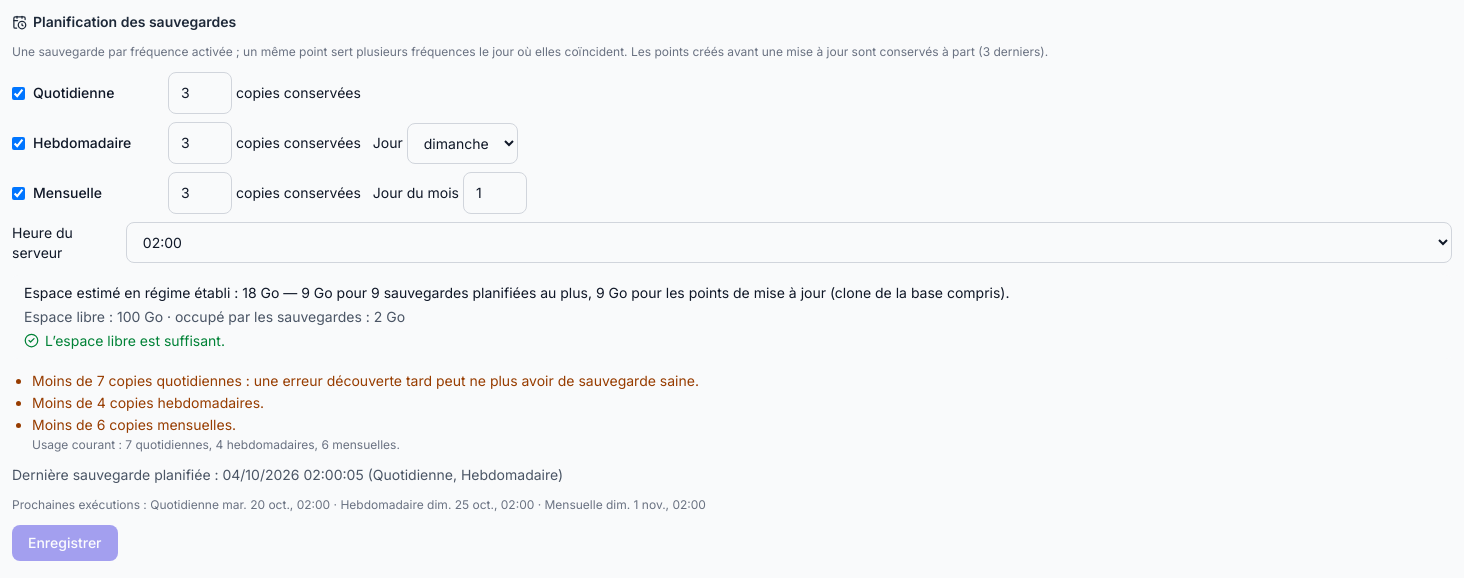
it: BackupSchedulePanel › conseils de bonnes pratiques : conservation inférieure à 7 / 4 / 6, et usage courant rappelé
Check: the list with test id "advice" shows "Moins de 7 copies quotidiennes", box [32, 372, 699, 389]
Check: the list with test id "advice" shows "Moins de 4 copies hebdomadaires", box [32, 394, 264, 411]
Replace the text in the number field named "Quotidienne — copies conservées" with "7" at (200, 93), box [168, 72, 232, 114]
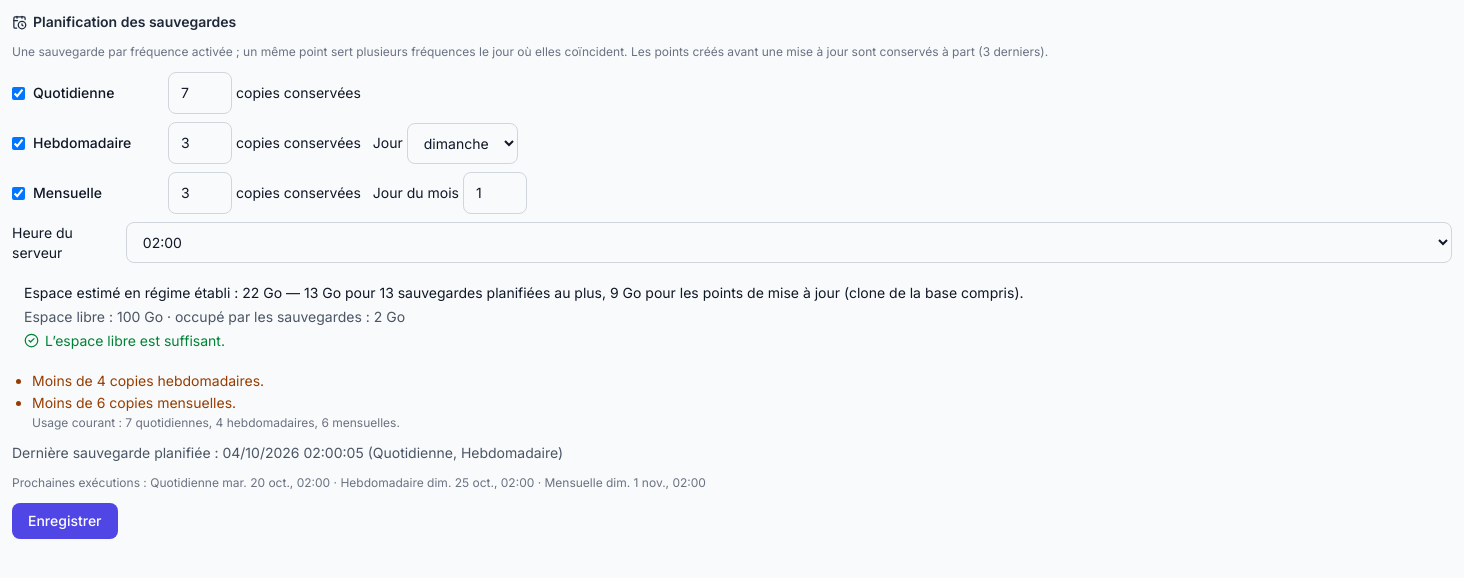
Replace the text in the number field named "Hebdomadaire — copies conservées" with "4" at (200, 143), box [168, 122, 232, 164]
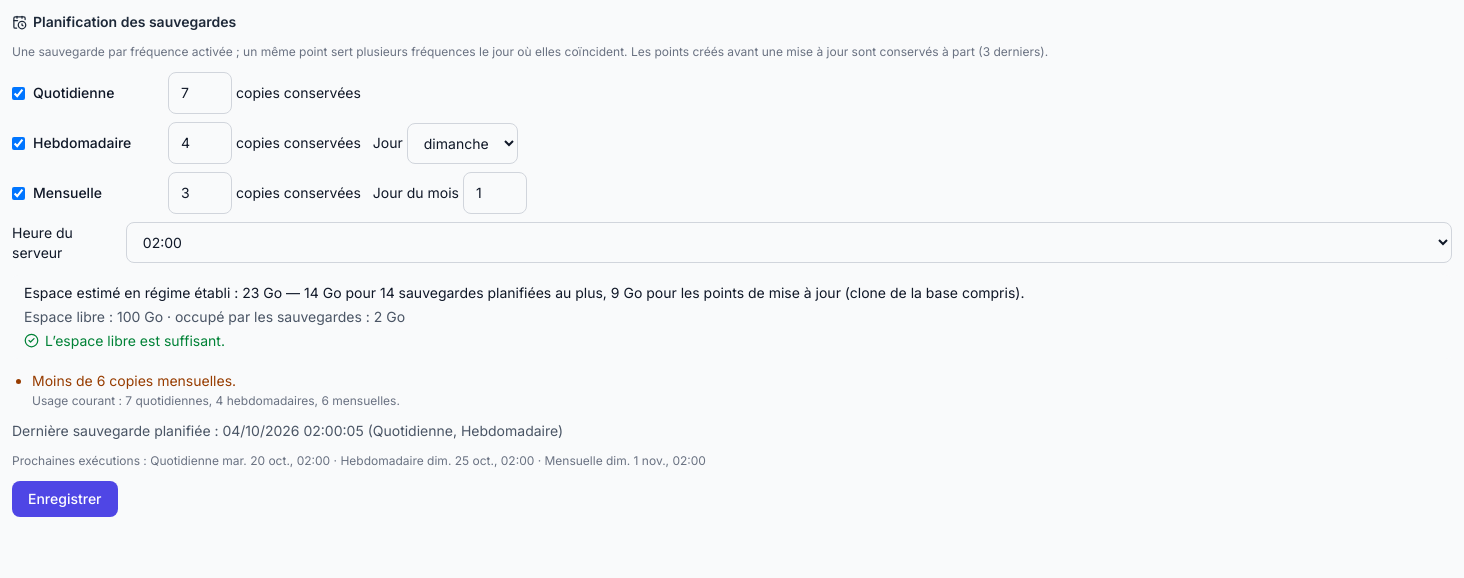
Replace the text in the number field named "Mensuelle — copies conservées" with "6" at (200, 193), box [168, 172, 232, 214]
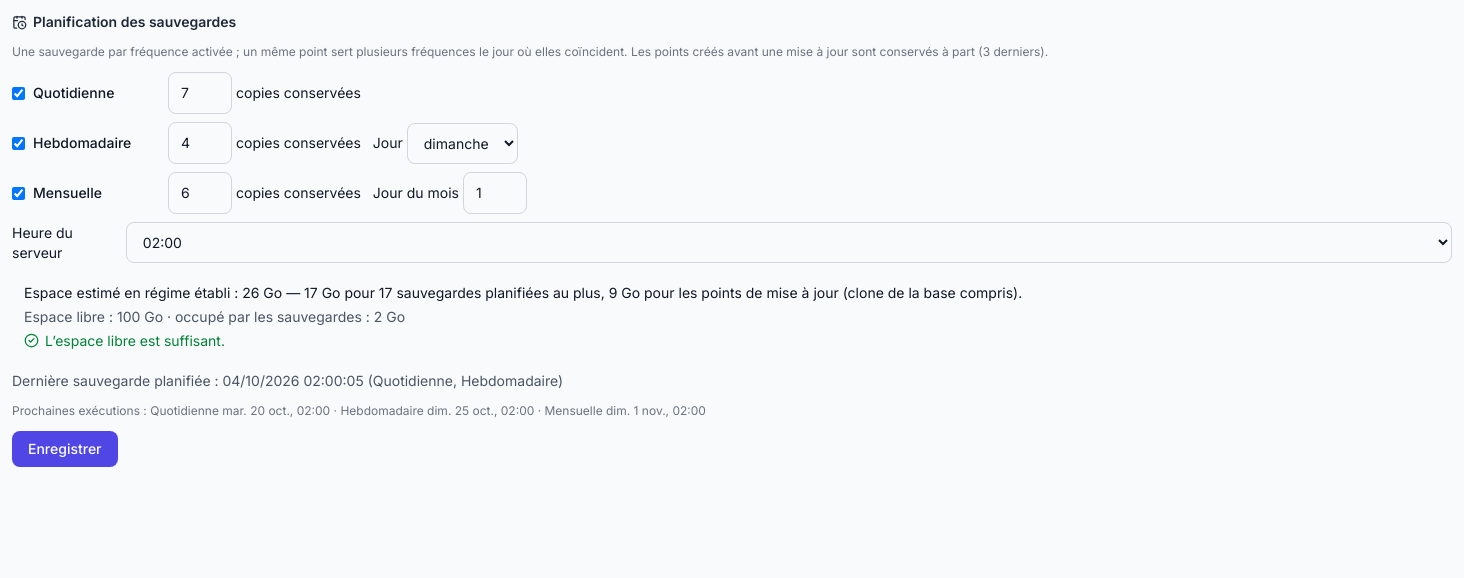
Check: the list with test id "advice" is gone
